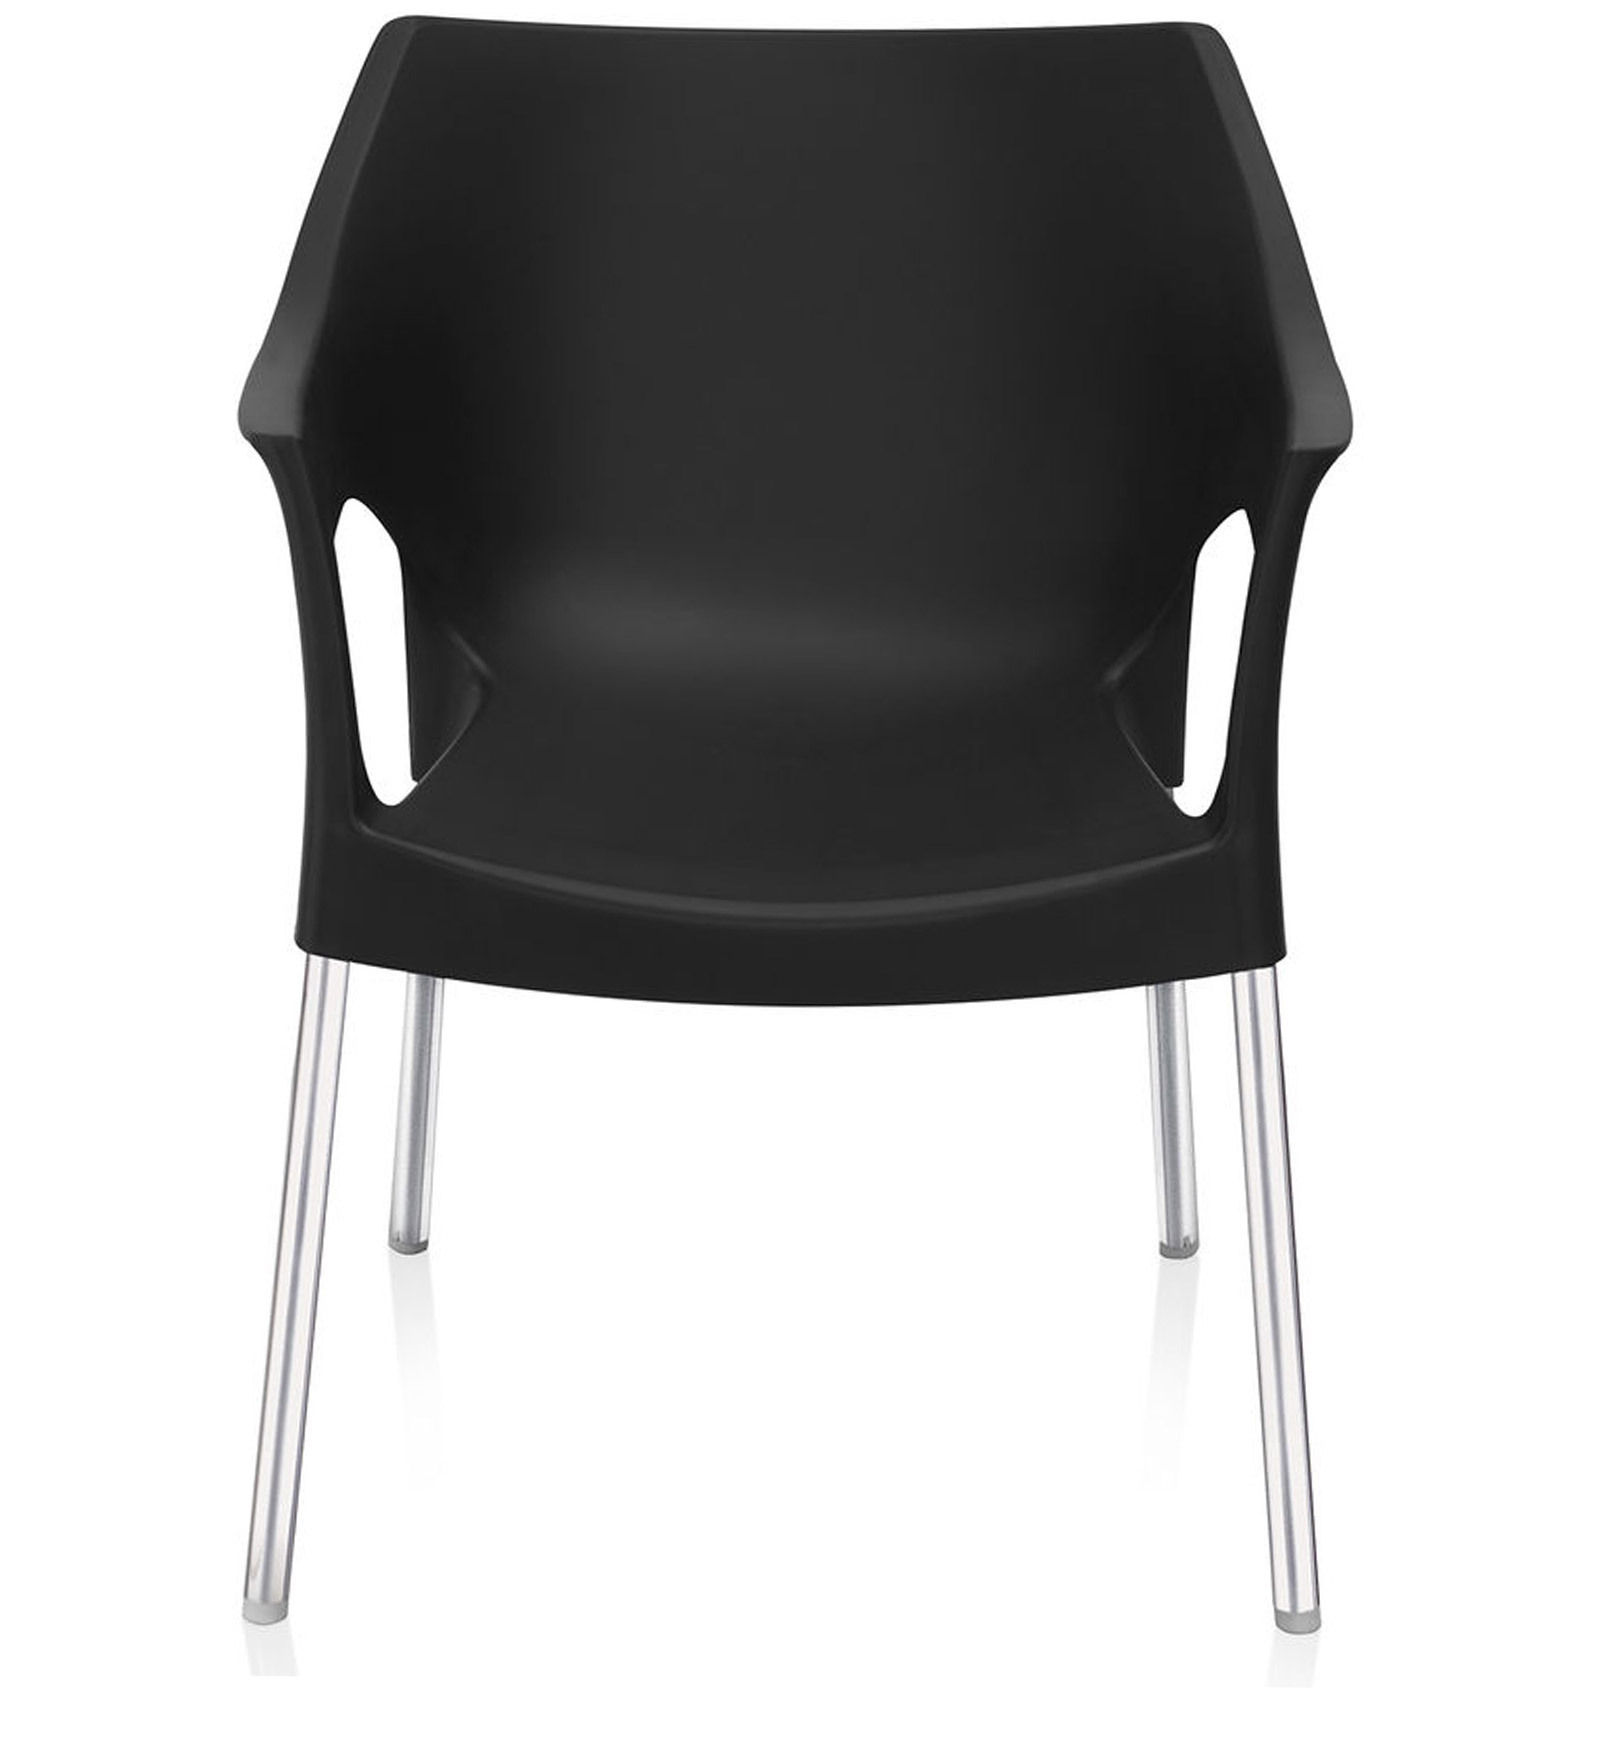Novella Series - 10 Set of 2 Chairs in Black Colour by Nilkamal: (231, 12, 1370, 1637)
